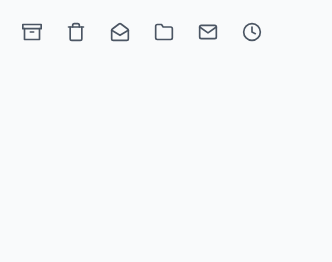
it: BulkActions - Move to folder › shows move dropdown when Move to folder is clicked
Click the button named "move to folder": (164, 32) x1=144 y1=12 x2=184 y2=52
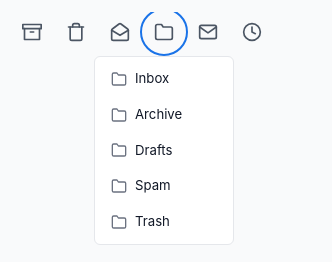
expect the button "Inbox" is shown: met, box x1=99 y1=61 x2=229 y2=97
expect the button "Archive" is shown: met, box x1=99 y1=97 x2=229 y2=133
expect the button "Spam" is shown: met, box x1=99 y1=168 x2=229 y2=204
